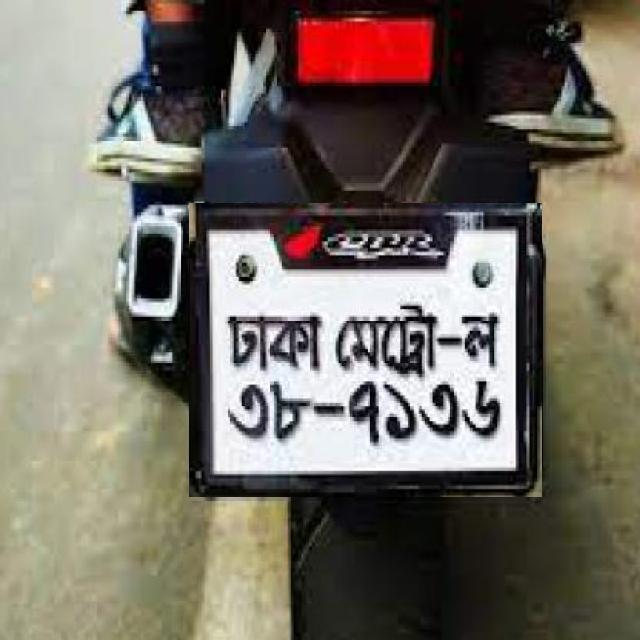numberplate: (189, 203, 542, 497)
